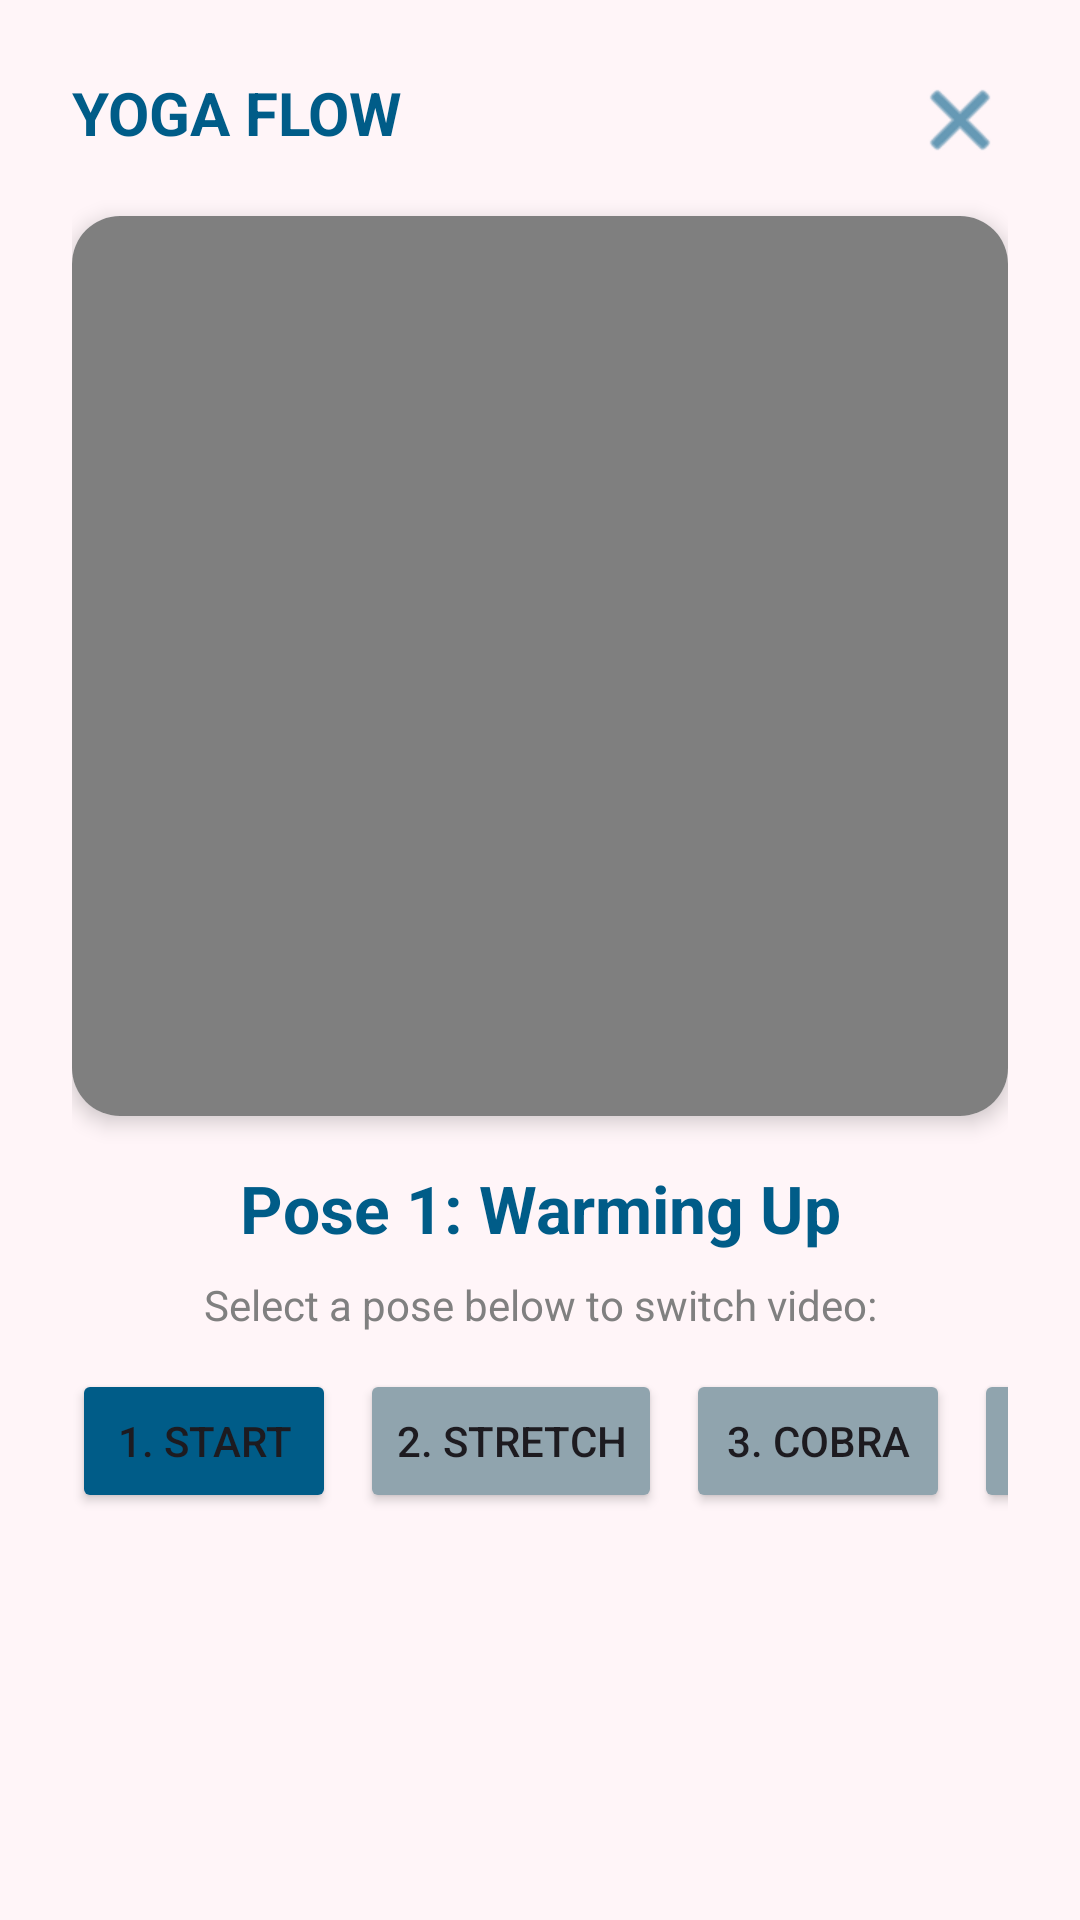

Where icons sit on this 1080x1920 app screen, as (x1, y1, x2, y2):
close clear cancel: (930, 90, 990, 150)
